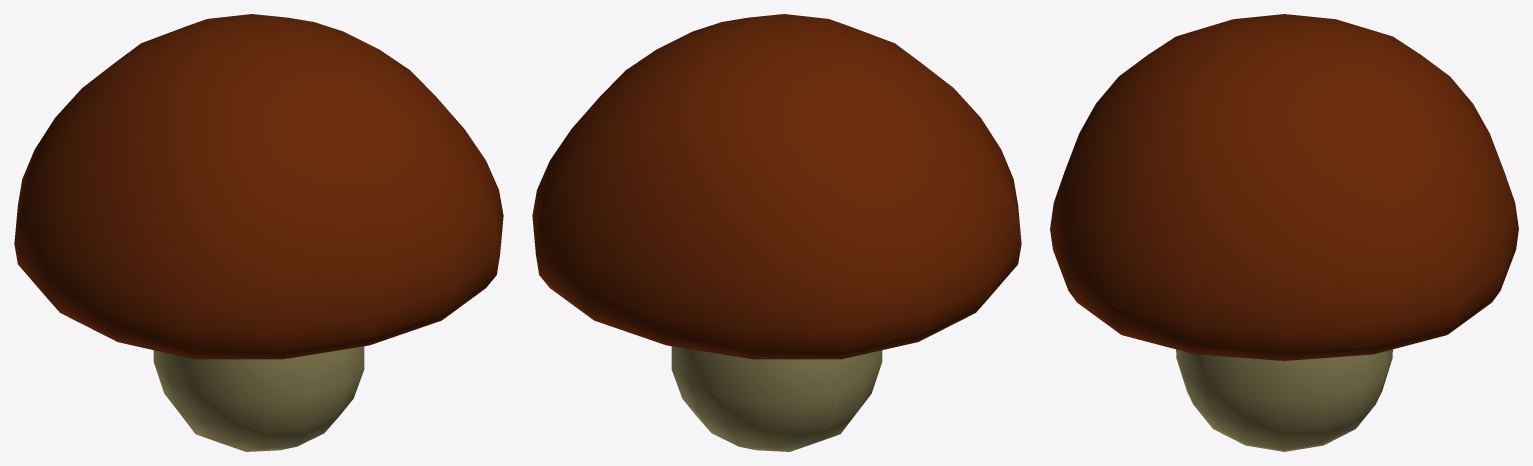
Rendered from Mushroom.FBX.
3 renders of one model, left to right at view 1: azimuth 30°, elevation 25°; view 2: azimuth 150°, elevation 25°; view 3: azimuth 270°, elevation 25°, orthographic.
Parts seen in each view (by area): view 1: Mushroom; view 2: Mushroom; view 3: Mushroom.
Boxes of the visible parts, x1,y1,x2,y2 form: Mushroom: (14, 14, 503, 451); Mushroom: (532, 14, 1021, 451); Mushroom: (1050, 14, 1518, 451).
Bounding box in the file's own units: 0.2702 × 0.2442 × 0.2577.
